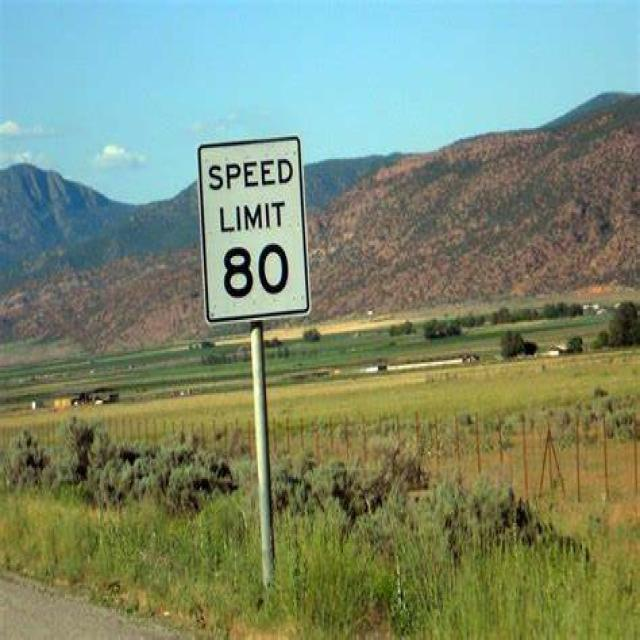speedLimit80: (193, 141, 316, 329)
